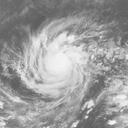cyclone: (17, 31, 98, 98)
